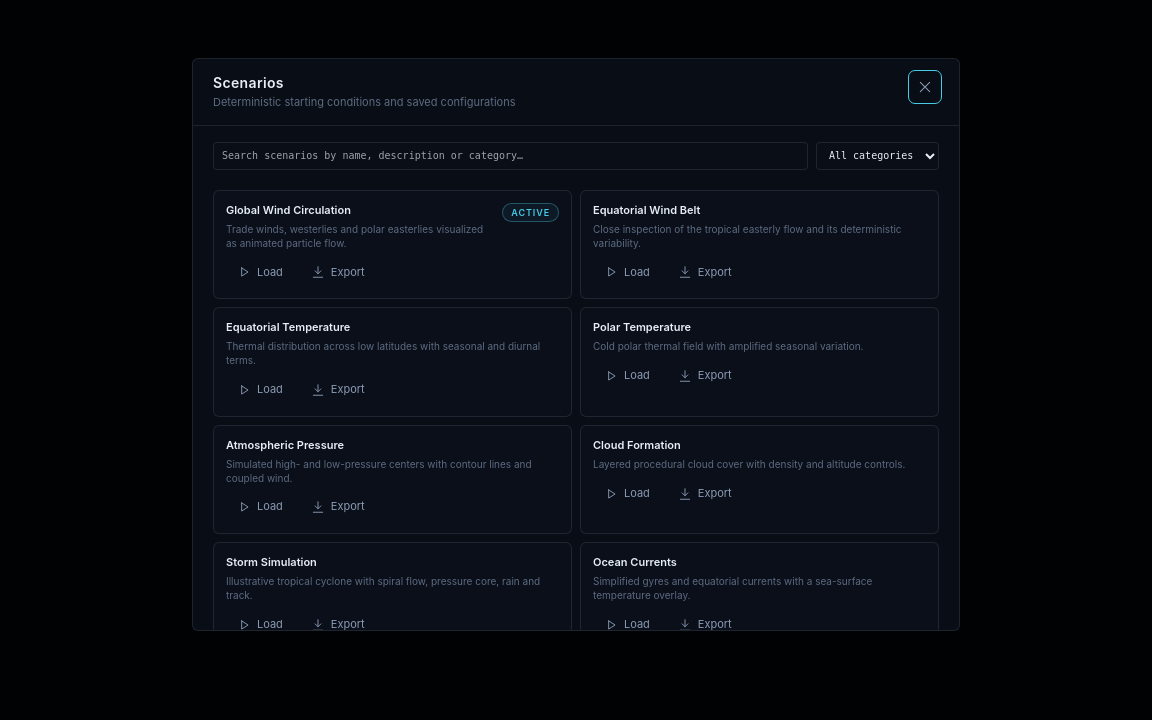
Test: ScenarioBrowser › filters scenarios by category
Select "marine" in the dropdown named "Filter scenarios by category" at (878, 156), box [816,142,939,170]
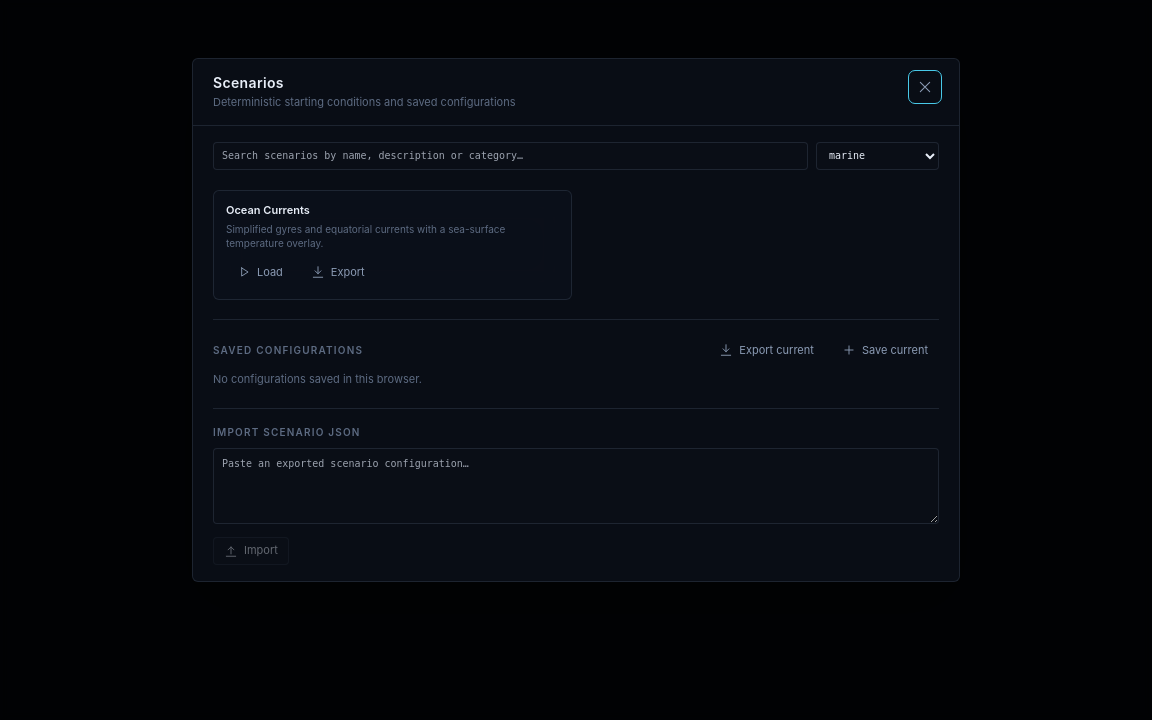
Expected: the text "Ocean Currents" is shown, [226,203,310,217]
Expected: the text "Storm Simulation" is gone
